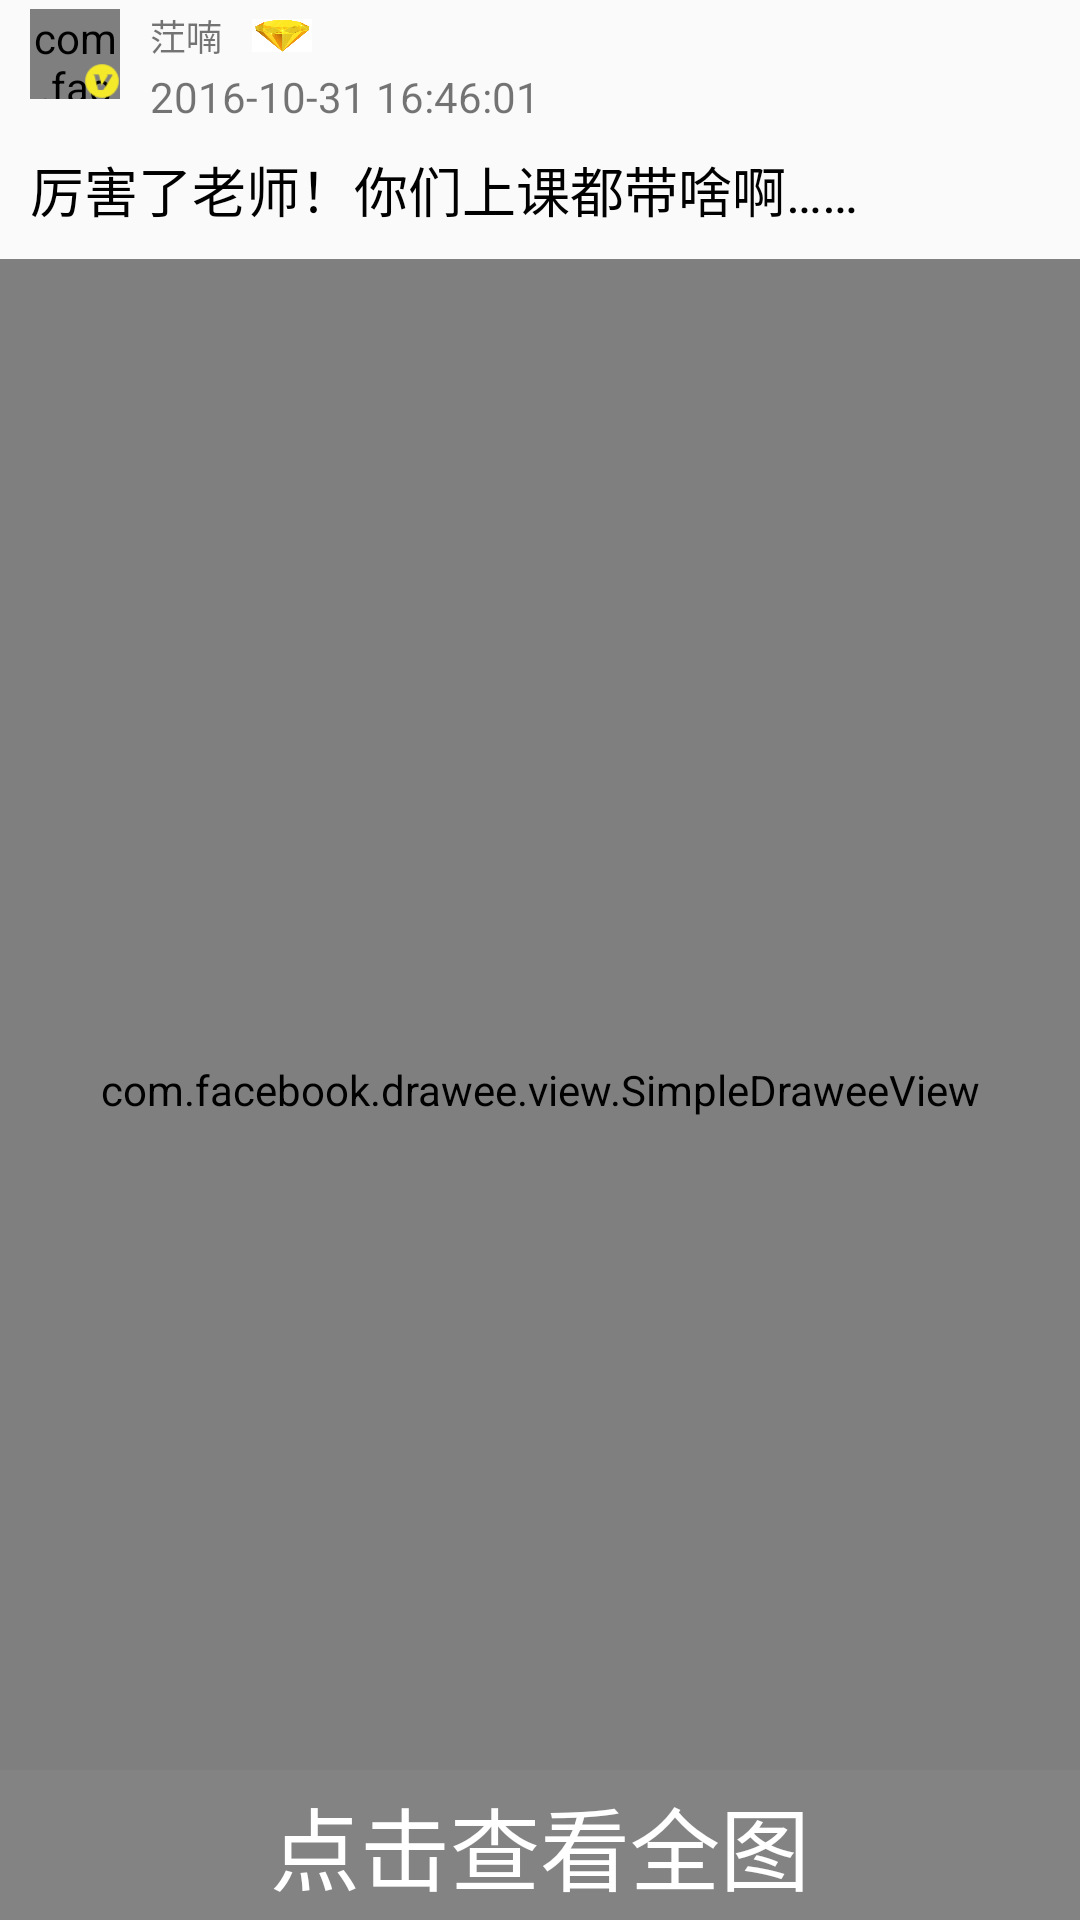

Icon click points for this 1080 × 1920 phone screenshot, format point (x, y):
zuanshi: point (282, 36)
